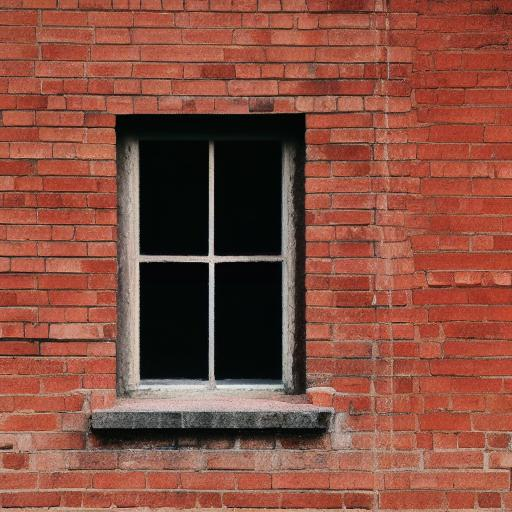Window: (88, 111, 334, 435)
